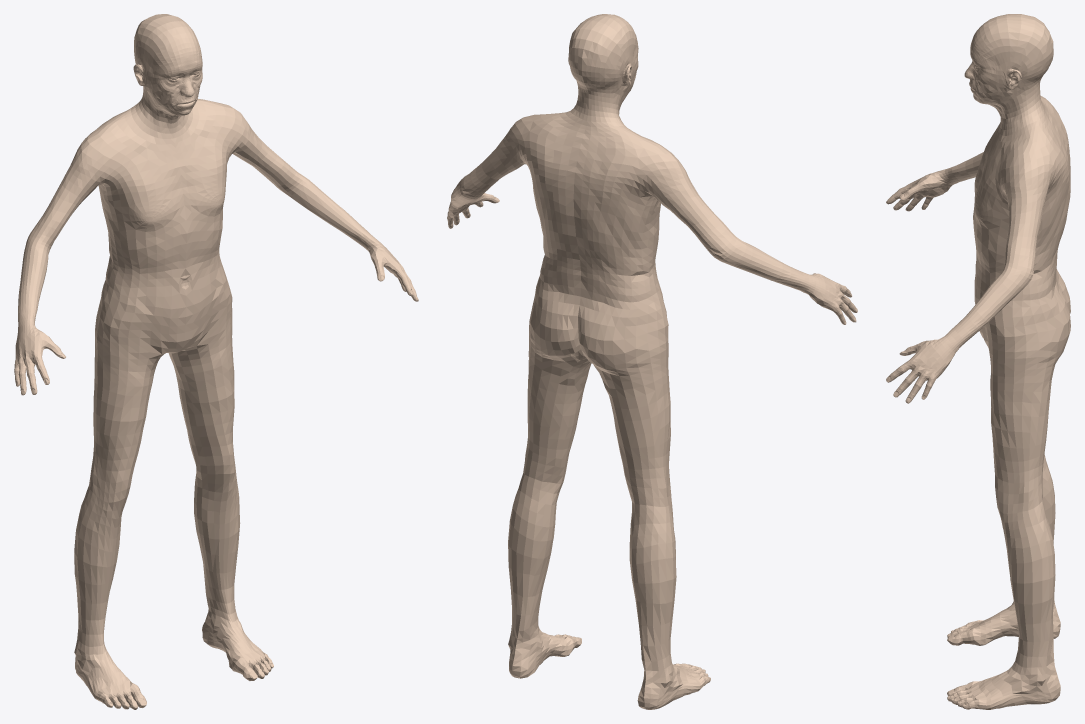
Rendered from male-older-fit-low.glb.
The picture shows the model from 3 angles, left to right: view 1: azimuth 30°, elevation 25°; view 2: azimuth 150°, elevation 25°; view 3: azimuth 270°, elevation 25°; orthographic projection.
Visible parts, largest first — view 1: world; view 2: world; view 3: world.
Part boxes in pixels (<box>): world: <box>14,14,418,709</box>; world: <box>447,14,857,709</box>; world: <box>886,14,1070,709</box>.
Size of the model in its own units: 1.22 by 1.93 by 0.4942.
